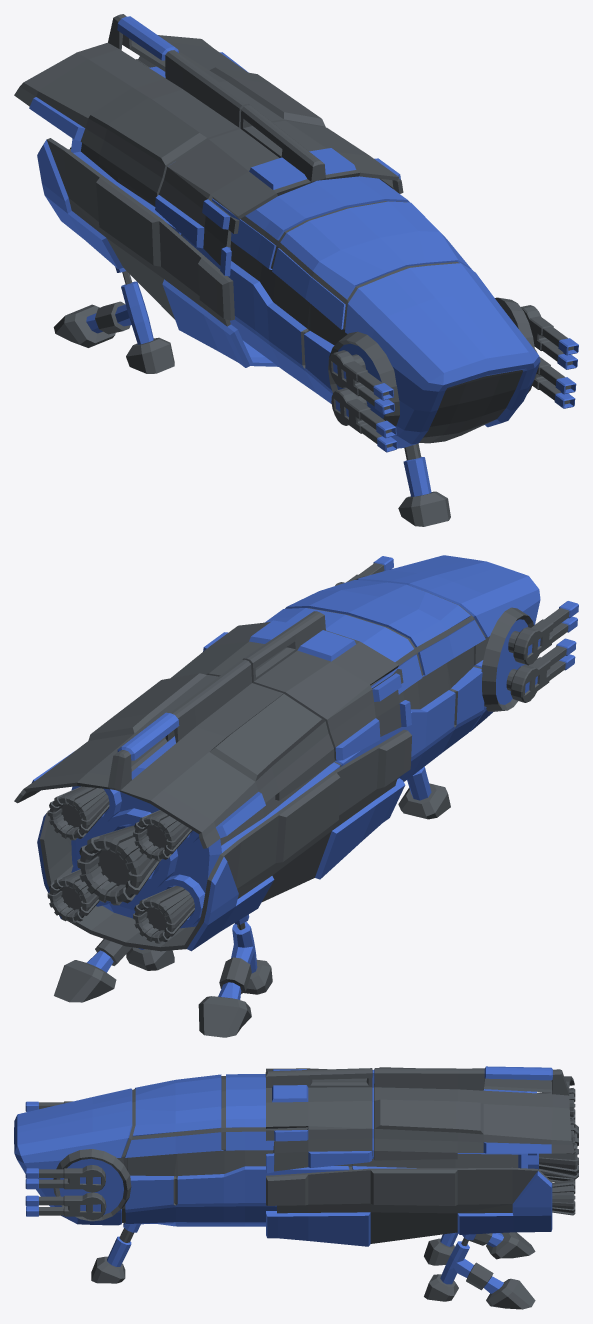
File: Dropship_04_Blue.fbx
3 views of the same model, one above another, from view 1: azimuth 30°, elevation 25°; view 2: azimuth 150°, elevation 25°; view 3: azimuth 270°, elevation 25° (orthographic). The views are drawn at different scales.
Parts seen in each view (by area): view 1: Dropship_04_Blue; view 2: Dropship_04_Blue; view 3: Dropship_04_Blue.
Part boxes in pixels (x1=…): Dropship_04_Blue: x1=14, y1=14, x2=578, y2=526; Dropship_04_Blue: x1=14, y1=555, x2=578, y2=1037; Dropship_04_Blue: x1=14, y1=1066, x2=578, y2=1309.
Size of the model in its own units: 439 by 601 by 1458.
1 material, 1 textured.
